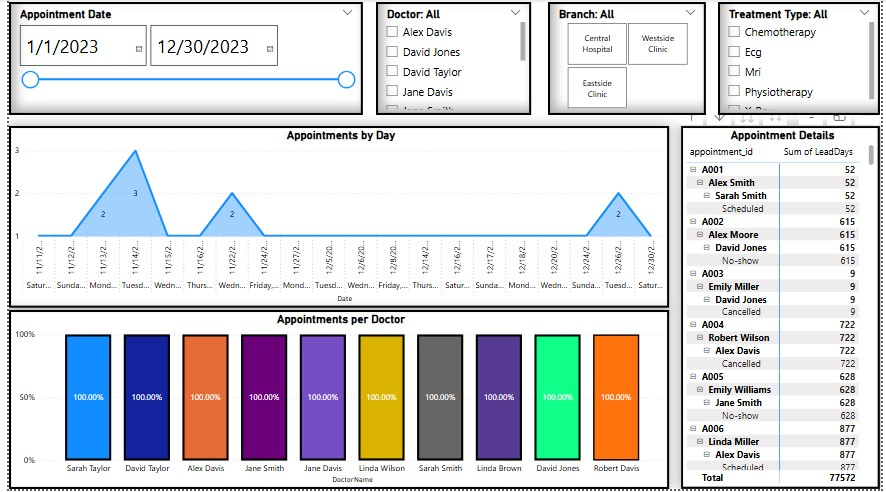

The page's visual inventory and layout, read from the dashboard file:
{"tool":"powerbi","page":{"name":"Appointments","canvas":[1280,720],"ordinal":2},"visuals":[{"type":"stackedAreaChart","title":"Appointments by Day","fields":{"Category":["appointments.appointment_date","Date.Date"],"Y":["CountNonNull(appointments.appointment_id)"]},"box":[0,186.6,969.8,267.4],"z":0},{"type":"hundredPercentStackedColumnChart","title":"Appointments per Doctor","fields":{"Y":["CountNonNull(appointments.appointment_id)"],"Category":["doctors.DoctorName"]},"box":[0,457,969.8,263],"z":1000},{"type":"pivotTable","title":"Appointment Details","fields":{"Values":["Sum(appointments.LeadDays)"],"Rows":["appointments.appointment_id","patients.FullName","doctors.DoctorName","appointments.status"]},"box":[987.4,186.6,292.4,533.4],"z":2000},{"type":"slicer","fields":{"Values":["doctors.hospital_branch"]},"box":[792,4.4,232.2,166],"z":3000},{"type":"slicer","fields":{"Values":["doctors.DoctorName"]},"box":[539.3,4.4,227.8,166],"z":4000},{"type":"actionButton","box":[0,0,100,40],"z":5000},{"type":"slicer","fields":{"Values":["treatments.treatment_type"]},"box":[1041.8,4.4,238,166],"z":6000},{"type":"slicer","fields":{"Values":["appointments.appointment_date"]},"box":[0,4.4,520.2,166],"z":7000}]}

Visuals, with their boxes in screenshot pixels (x1, y1, x2, y2), scaled from the page's 1280x720 canvas onto the 886x492 screenshot:
"Appointments by Day" stackedAreaChart: box(0, 128, 671, 310)
"Appointments per Doctor" hundredPercentStackedColumnChart: box(0, 312, 671, 491)
"Appointment Details" pivotTable: box(683, 128, 885, 491)
slicer - doctors.hospital_branch: box(548, 3, 709, 116)
slicer - doctors.DoctorName: box(373, 3, 531, 116)
actionButton: box(0, 0, 69, 27)
slicer - treatments.treatment_type: box(721, 3, 885, 116)
slicer - appointments.appointment_date: box(0, 3, 360, 116)
